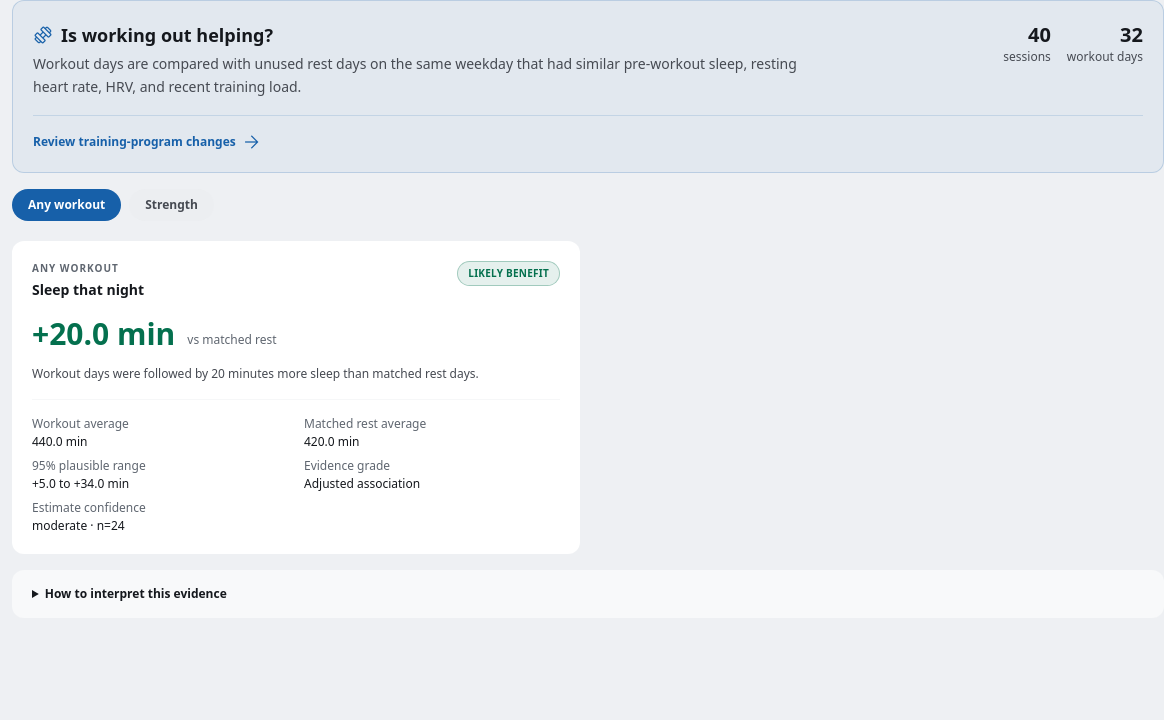
Test: WorkoutEffects › switches exercise types without mixing their estimates
The width and height of the screenshot is (1164, 720).
Click the tab "Strength" at (172, 204), box [129,188,214,220]
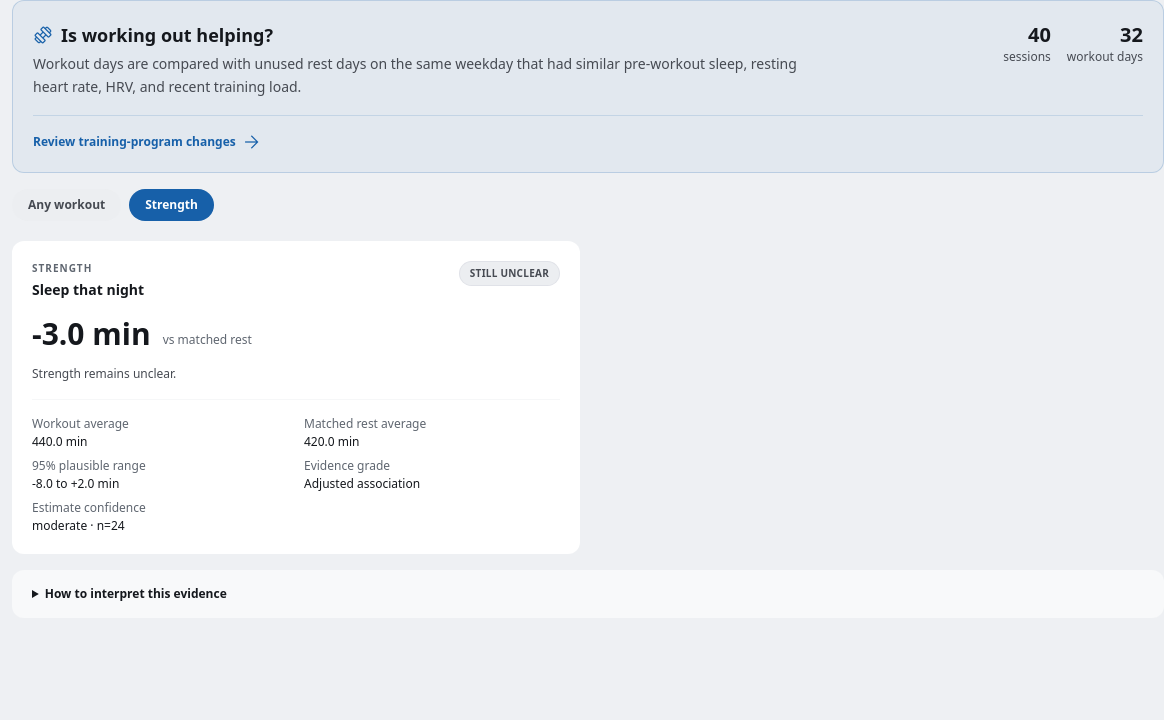
Now the text "-3.0 min" is shown, box [32,316,151,352]
Now the text "Strength remains unclear." is shown, box [32,364,176,382]
Now the text "+20.0 min" is gone
